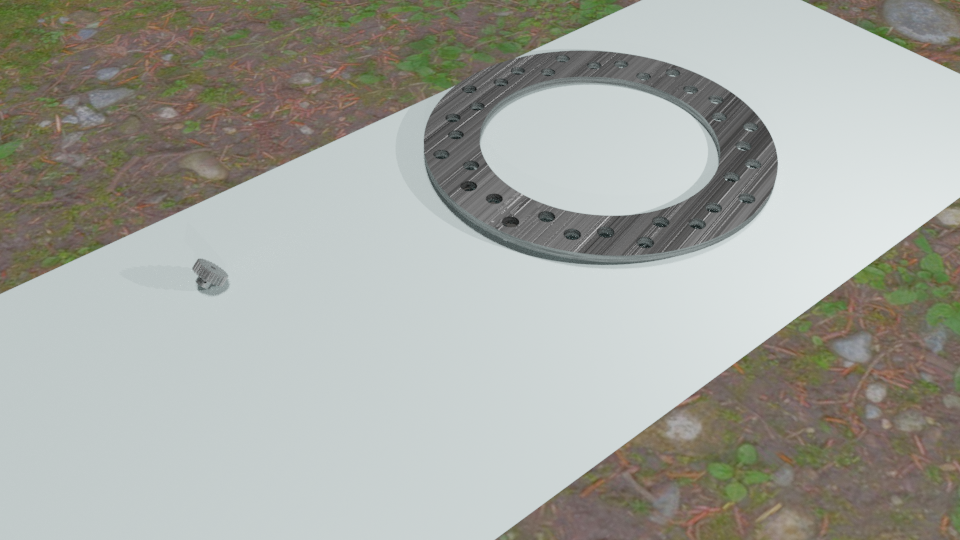yamaha_letters: (459, 180, 519, 228)
